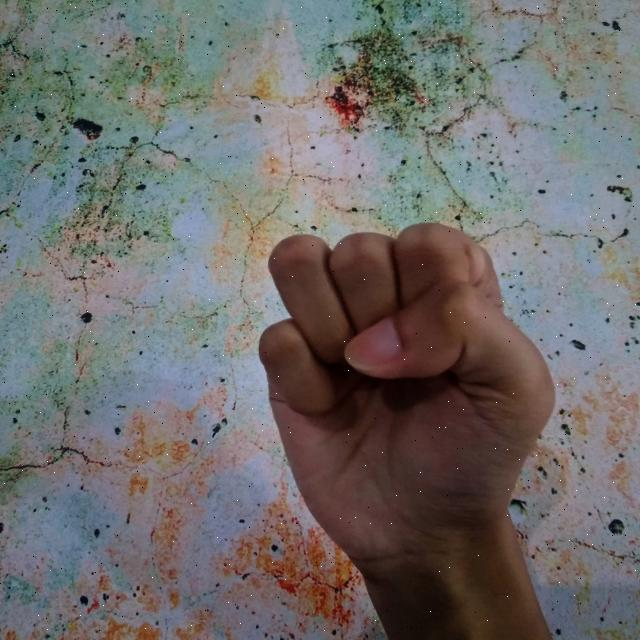S: (251, 218, 560, 640)
